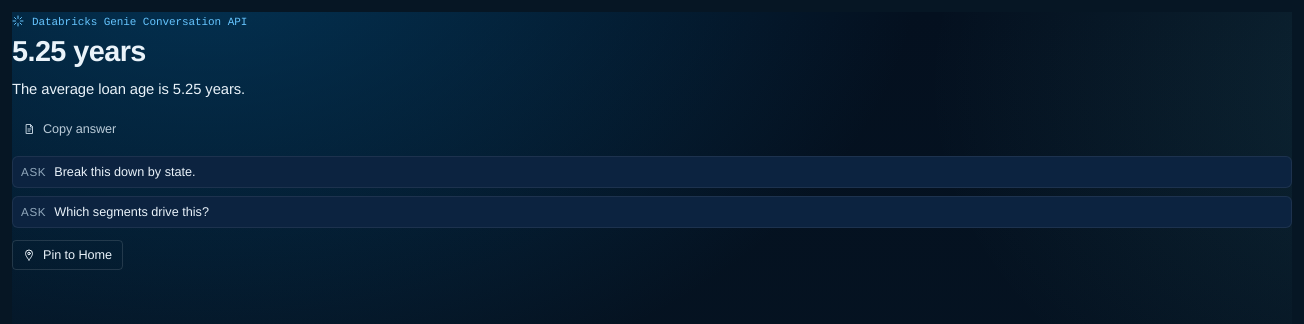
GenieAnswer pin + fallback › shows the pin button for a genuine answer with a question, and pins to the store
The width and height of the screenshot is (1304, 324).
What coordinates should you click on to do the following:
click the button with test id "pin-to-home"
I would click on:
 (68, 255)
Its box is [12,240,123,270].
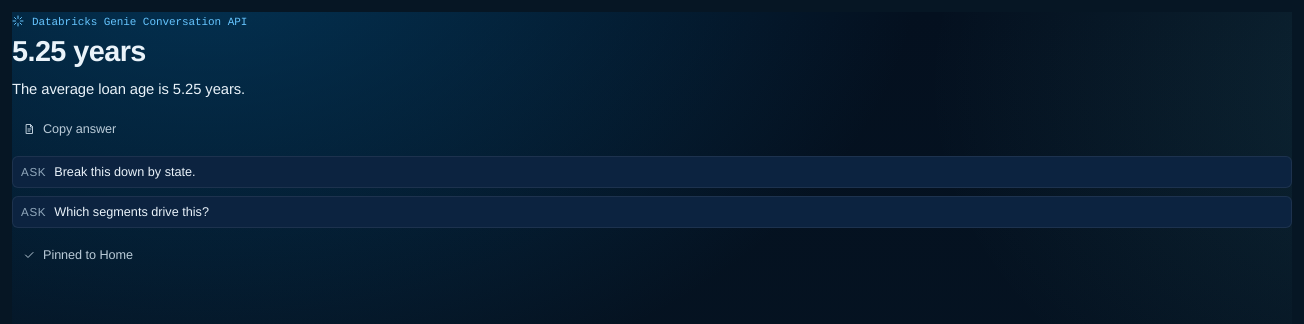
Check: the button with test id "pin-to-home" reads "Pinned to Home", box [12,240,144,270]
